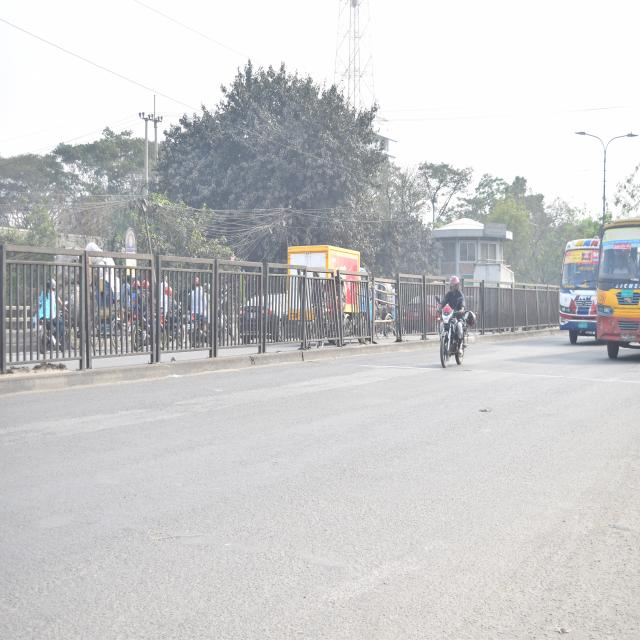bus: (597, 206, 640, 364), (553, 220, 604, 346)
motorbike: (427, 284, 472, 371)
